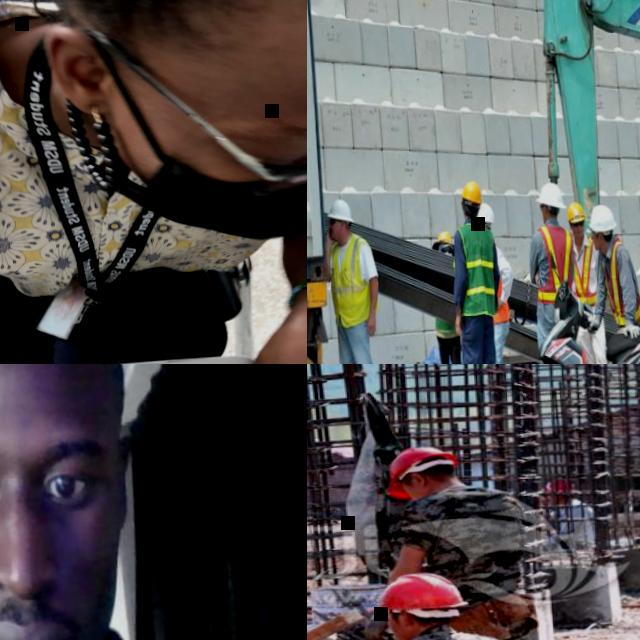Hardhat: (363, 567, 466, 622), (382, 443, 461, 504), (538, 473, 581, 494), (536, 180, 564, 209), (587, 203, 616, 230), (325, 197, 353, 222), (565, 201, 585, 223), (460, 180, 480, 202), (475, 203, 493, 225), (432, 230, 453, 247)
Mask: (83, 69, 307, 251)
NO-Hardhat: (53, 0, 307, 57)
NO-Mask: (0, 529, 129, 640), (403, 481, 432, 501), (388, 622, 408, 640), (327, 228, 340, 242), (592, 237, 605, 250), (574, 226, 586, 238), (540, 213, 548, 222)
NO-Safety Vest: (0, 36, 249, 304), (409, 480, 545, 609), (550, 502, 593, 550)
Person: (0, 0, 307, 364), (0, 364, 307, 640), (380, 436, 541, 640), (307, 568, 537, 640), (440, 177, 508, 364), (522, 177, 584, 364), (323, 193, 387, 364), (585, 201, 640, 364), (471, 201, 521, 364), (565, 197, 608, 364), (426, 227, 466, 364), (537, 473, 592, 560)
Safety Vest: (328, 234, 371, 330), (456, 219, 497, 316), (599, 233, 640, 328), (530, 221, 575, 303), (429, 250, 459, 340), (567, 231, 599, 306), (490, 274, 511, 325)
vehicle: (530, 0, 640, 364), (307, 0, 338, 364)
